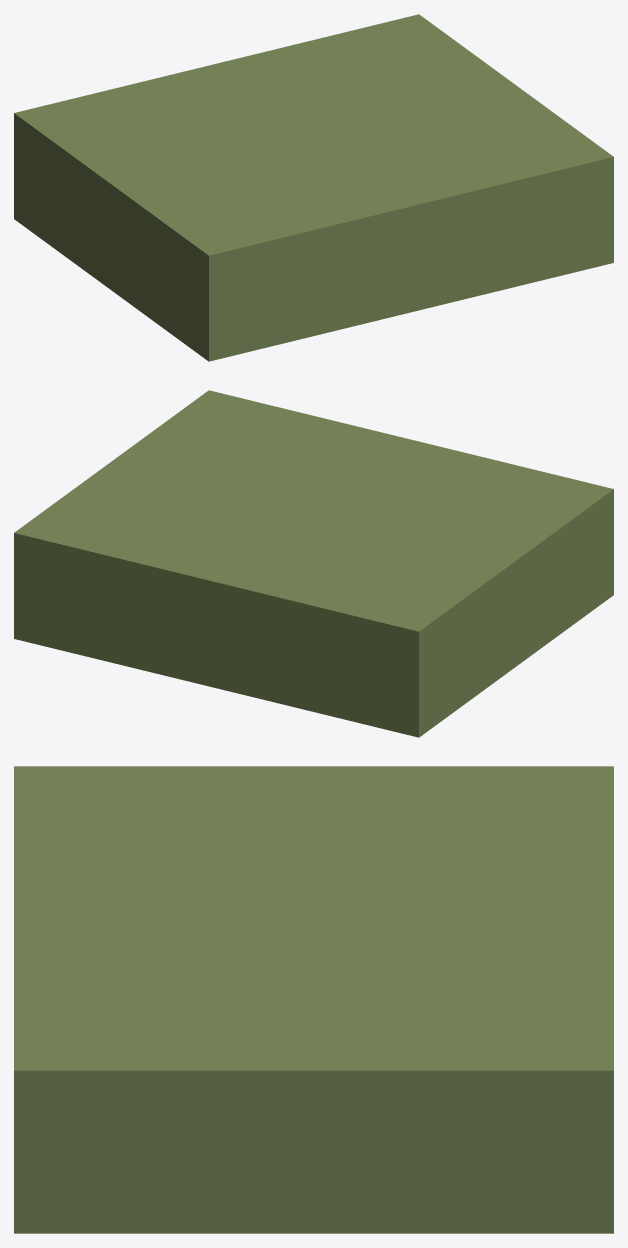
3 renders of one model, top to bottom at view 1: azimuth 30°, elevation 25°; view 2: azimuth 150°, elevation 25°; view 3: azimuth 270°, elevation 25°, orthographic. The views are drawn at different scales.
Parts seen in each view (by area): view 1: mound_boulder_rock_grass_path_stone_leaf_sun_flat; view 2: mound_boulder_rock_grass_path_stone_leaf_sun_flat; view 3: mound_boulder_rock_grass_path_stone_leaf_sun_flat.
Boxes of the visible parts, x1,y1,x2,y2 form: mound_boulder_rock_grass_path_stone_leaf_sun_flat: [14, 14, 613, 361]; mound_boulder_rock_grass_path_stone_leaf_sun_flat: [14, 390, 613, 737]; mound_boulder_rock_grass_path_stone_leaf_sun_flat: [14, 766, 613, 1233].
Size of what is drawn, in the model's own units: 2.4 by 0.6 by 2.
